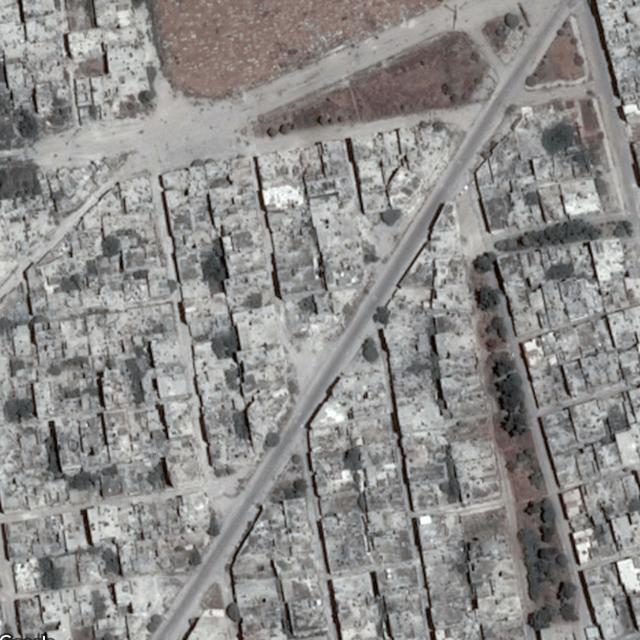damaged_building: (282, 289, 356, 353)
